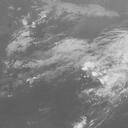cyclone: (68, 41, 116, 98)
